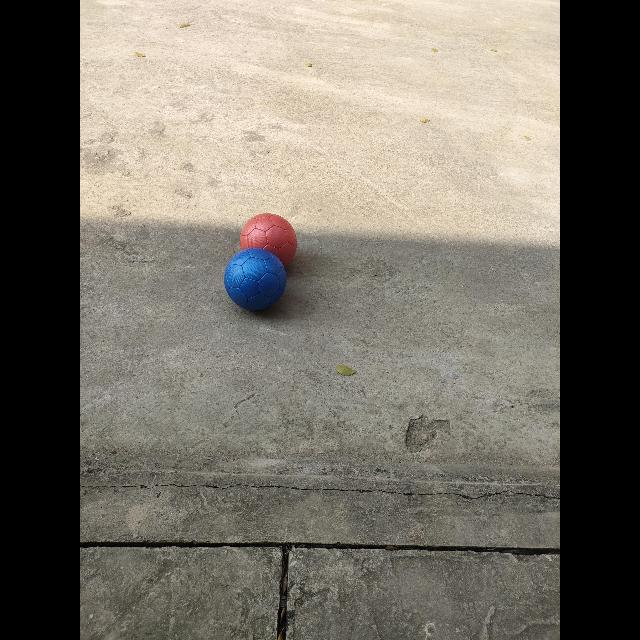B: (224, 249, 286, 310)
R: (240, 214, 298, 265)
